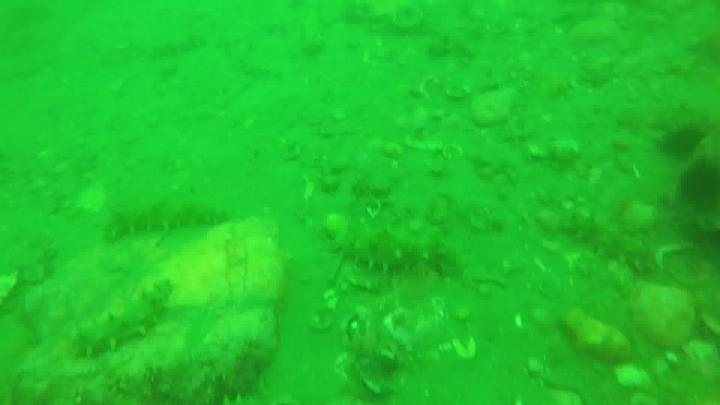echinus: (677, 158, 720, 210), (658, 123, 708, 162)
holothurian: (69, 277, 175, 361), (326, 222, 461, 280), (555, 209, 660, 275), (102, 198, 231, 243), (147, 30, 208, 62)
